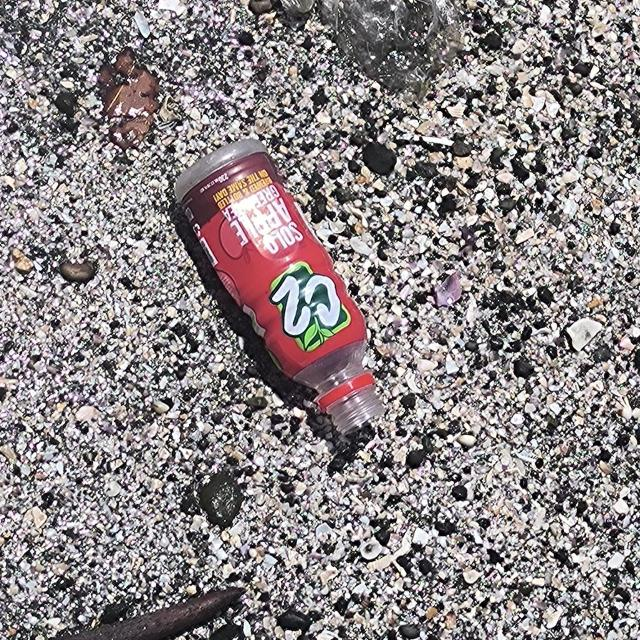plastic_waste: (174, 138, 388, 438)
